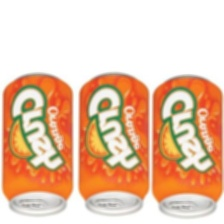can: (75, 64, 152, 218), (149, 68, 224, 223), (1, 70, 73, 220)
